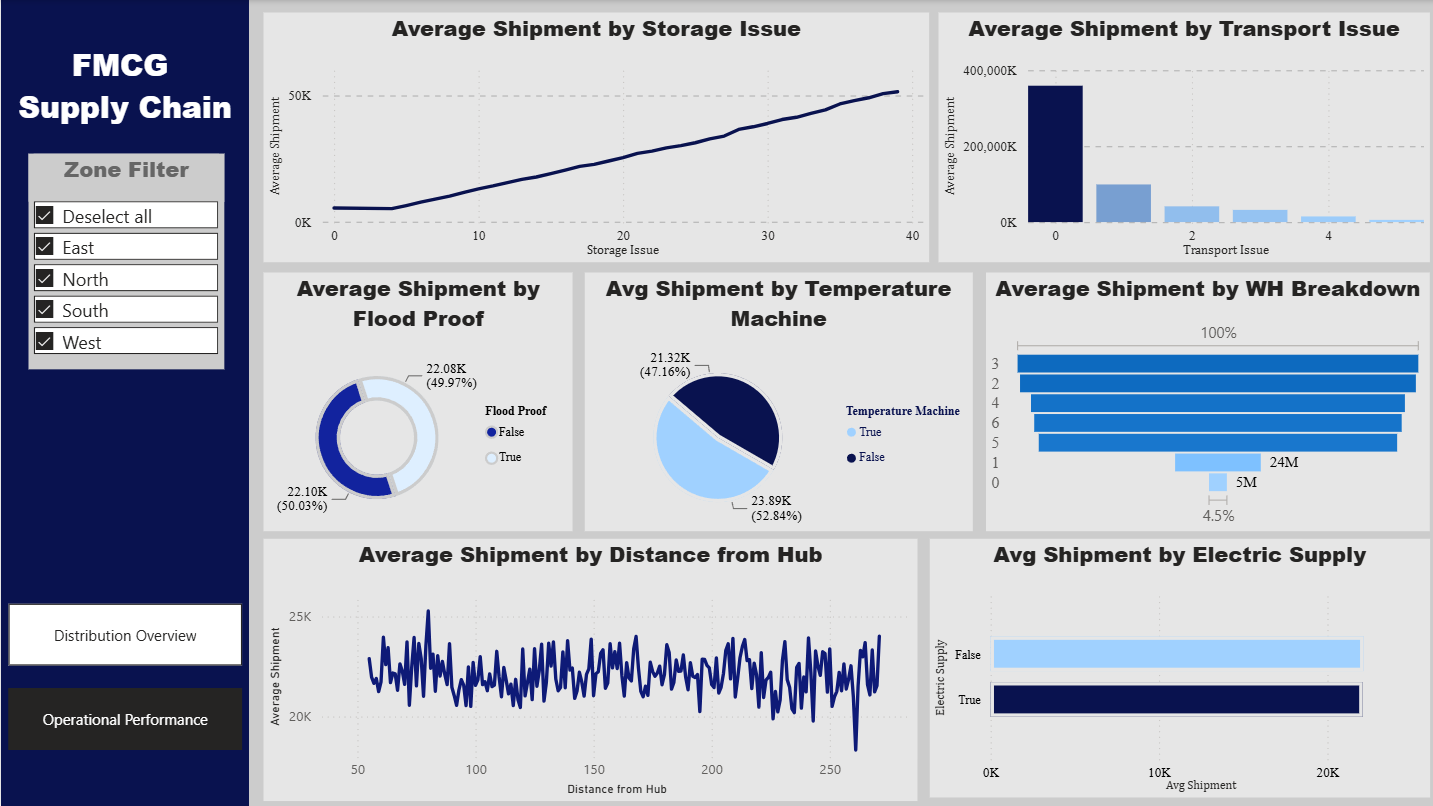

The dashboard page shown, as its layout file describes it:
{"tool":"powerbi","page":{"name":"Operational Performance","canvas":[1280,720],"ordinal":1},"visuals":[{"type":"shape","box":[0,0,220.9,720.4],"z":0},{"type":"textbox","box":[0,32.9,220.9,91.9],"z":1000},{"type":"pageNavigator","box":[6.9,537.9,208.6,131.7],"z":2000},{"type":"actionButton","box":[6.9,537.9,208.6,54.9],"z":3000},{"type":"actionButton","box":[6.9,614.8,208.6,54.9],"z":4000},{"type":"lineChart","fields":{"Y":["Avg(Sheet1.product_wg_ton)"],"Category":["Sheet1.storage_issue_reported_l3m"]},"box":[233.3,11,592.8,222.3],"z":5000},{"type":"funnel","fields":{"Category":["Sheet1.wh_breakdown_l3m"],"Y":["Sum(Sheet1.product_wg_ton)"]},"box":[877.2,242.7,395.2,230.5],"z":6000},{"type":"listSlicer","fields":{"Values":["Sheet1.zone"]},"box":[24.7,137.2,174.3,192.1],"z":7000},{"type":"clusteredColumnChart","fields":{"Category":["Sheet1.transport_issue_l1y"],"Y":["Sum(Sheet1.product_wg_ton)"]},"box":[834.9,11.1,437.5,222.6],"z":8000},{"type":"pieChart","fields":{"Y":["Avg(Sheet1.product_wg_ton)"],"Category":["Sheet1.temp_reg_mach"]},"box":[519.8,243,345.3,230.2],"z":9000},{"type":"donutChart","fields":{"Category":["Sheet1.flood_proof"],"Y":["Avg(Sheet1.product_wg_ton)"]},"box":[233.7,243,275.6,230.2],"z":10000},{"type":"lineChart","fields":{"Category":["Sheet1.dist_from_hub"],"Y":["Avg(Sheet1.product_wg_ton)"]},"box":[233.7,480.2,582.6,233.7],"z":11000},{"type":"barChart","fields":{"Category":["Sheet1.electric_supply"],"Y":["Avg(Sheet1.product_wg_ton)"]},"box":[826.7,480.2,445.4,230.2],"z":12000}]}

Visuals, with their boxes in screenshot pixels (x1, y1, x2, y2), scaled from the page's 1280x720 canvas onto the 1433x806 screenshot:
shape: [left=0, top=0, right=247, bottom=805]
textbox: [left=0, top=37, right=247, bottom=140]
pageNavigator: [left=8, top=602, right=241, bottom=750]
actionButton: [left=8, top=602, right=241, bottom=664]
actionButton: [left=8, top=688, right=241, bottom=750]
lineChart - Avg(Sheet1.product_wg_ton) x Sheet1.storage_issue_reported_l3m: [left=261, top=12, right=925, bottom=261]
funnel - Sheet1.wh_breakdown_l3m x Sum(Sheet1.product_wg_ton): [left=982, top=272, right=1424, bottom=530]
listSlicer - Sheet1.zone: [left=28, top=154, right=223, bottom=369]
clusteredColumnChart - Sheet1.transport_issue_l1y x Sum(Sheet1.product_wg_ton): [left=935, top=12, right=1424, bottom=262]
pieChart - Avg(Sheet1.product_wg_ton) x Sheet1.temp_reg_mach: [left=582, top=272, right=969, bottom=530]
donutChart - Sheet1.flood_proof x Avg(Sheet1.product_wg_ton): [left=262, top=272, right=570, bottom=530]
lineChart - Sheet1.dist_from_hub x Avg(Sheet1.product_wg_ton): [left=262, top=538, right=914, bottom=799]
barChart - Sheet1.electric_supply x Avg(Sheet1.product_wg_ton): [left=926, top=538, right=1424, bottom=795]
